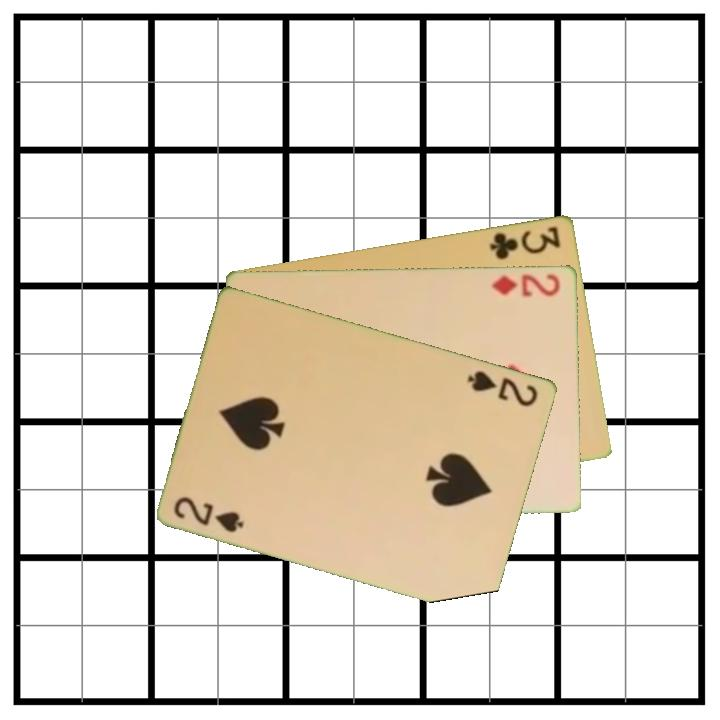2d: (489, 270, 563, 299)
2s: (464, 366, 541, 410), (171, 492, 247, 536)
3c: (486, 222, 564, 262)
